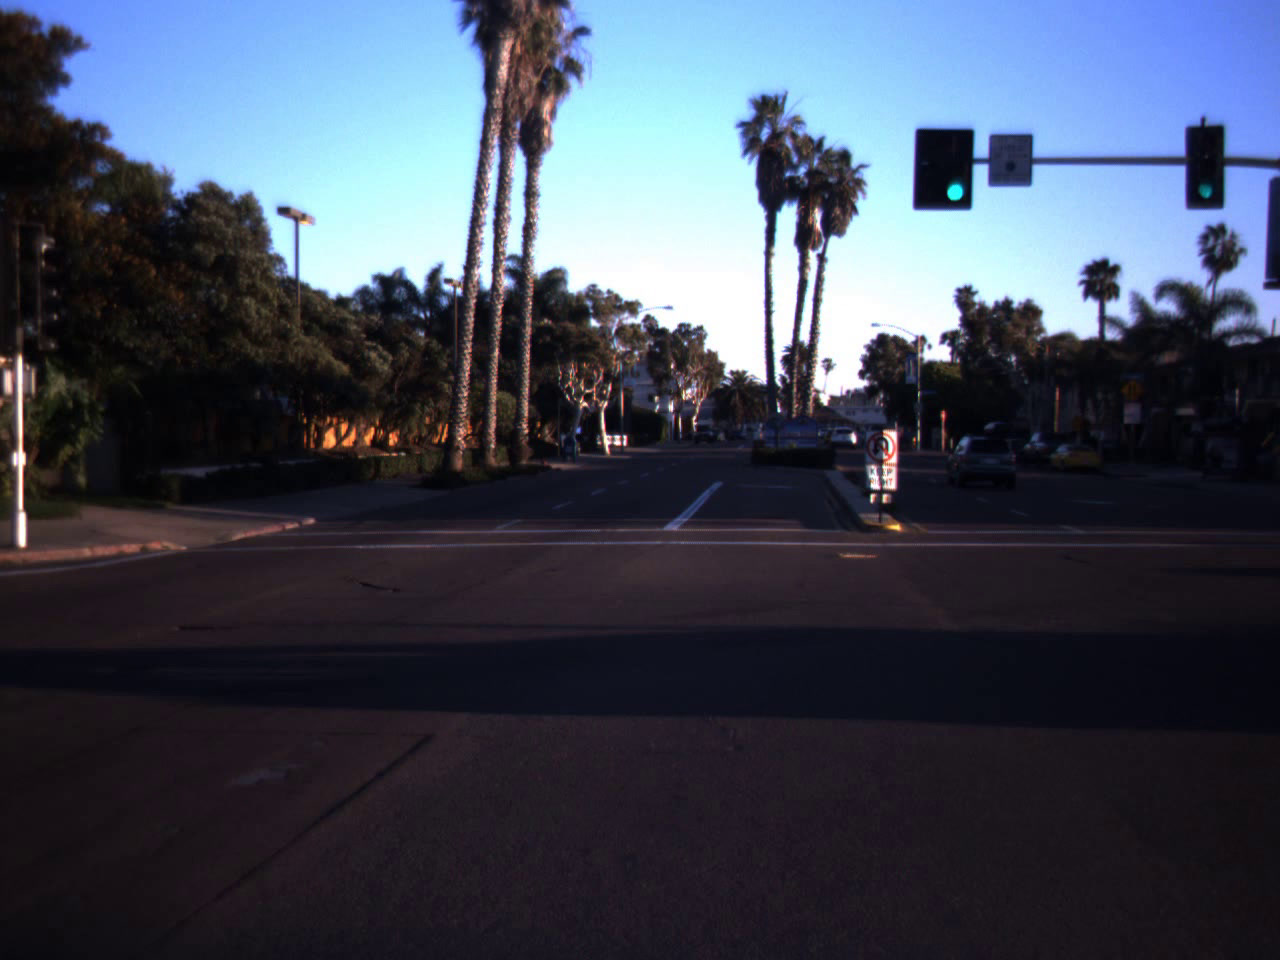go: (934, 132, 976, 207), (1188, 139, 1224, 204)
